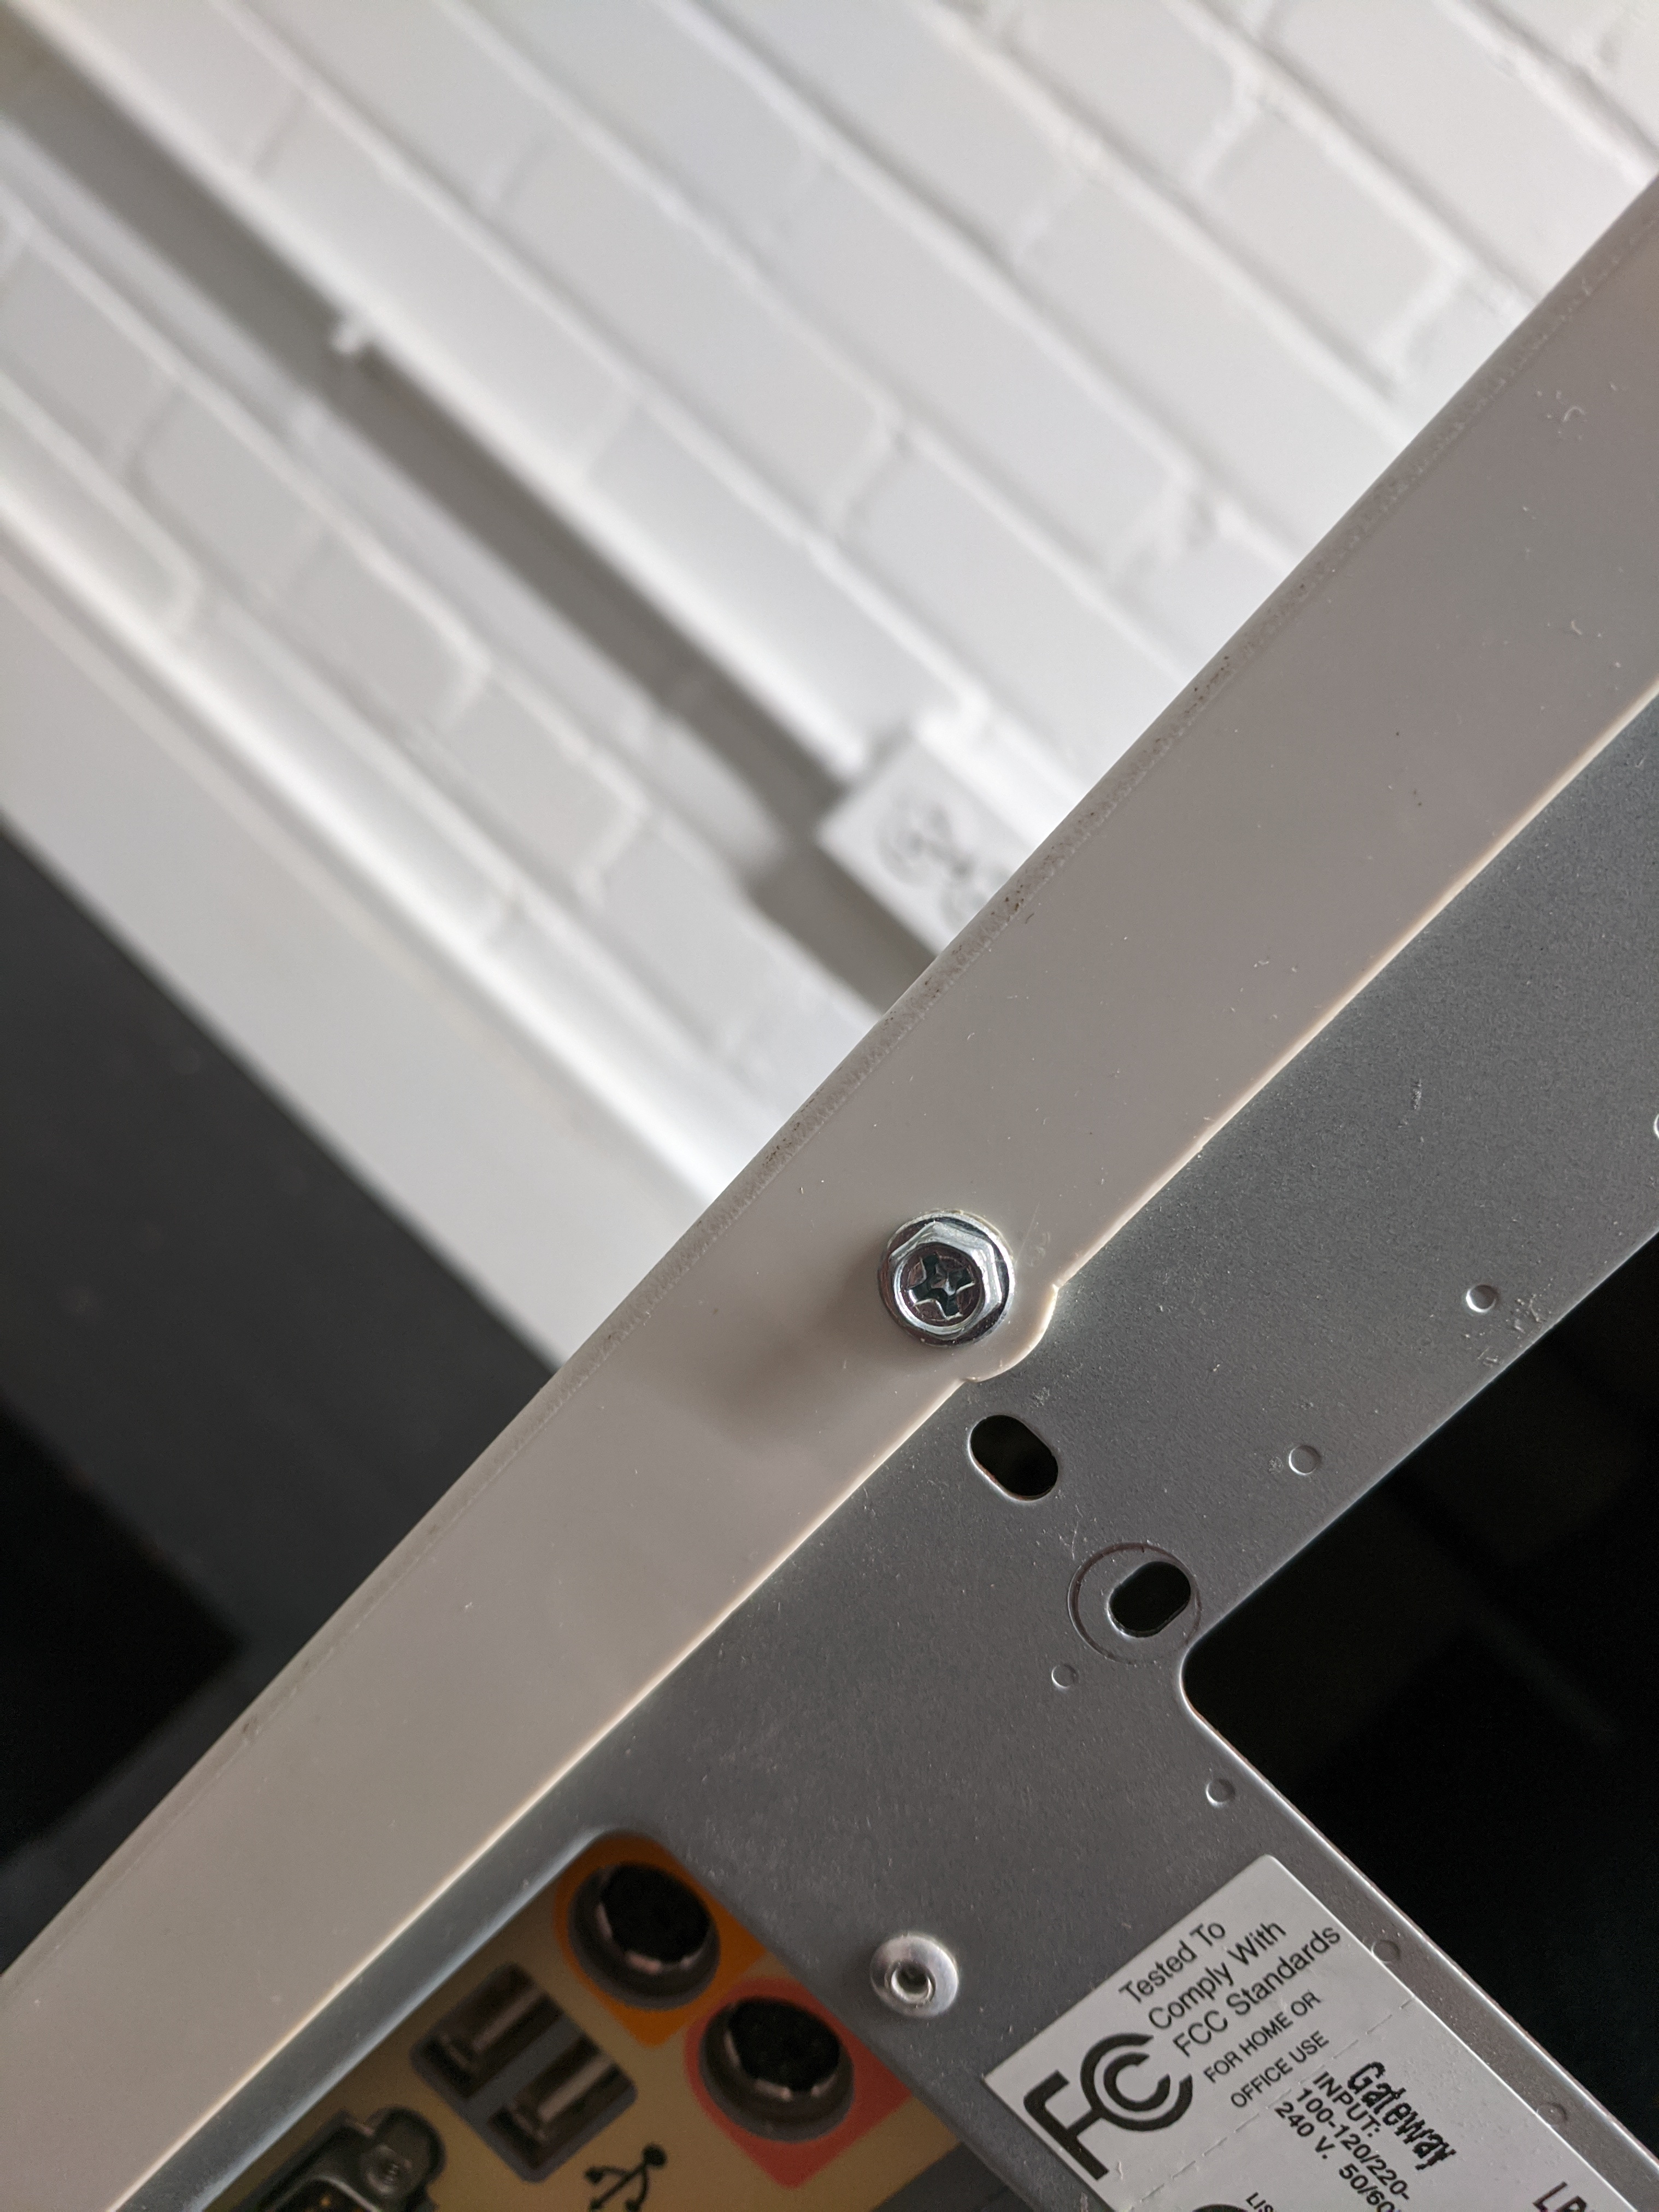cross_recessed_screw: (871, 1211, 1007, 1350)
